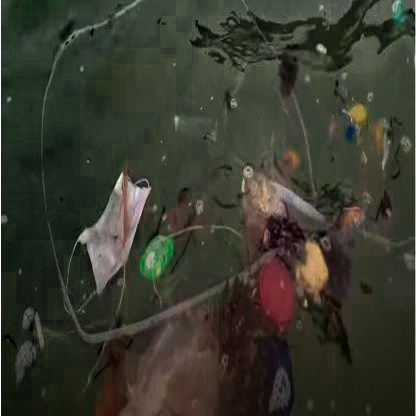Mask: (46, 127, 154, 352)
